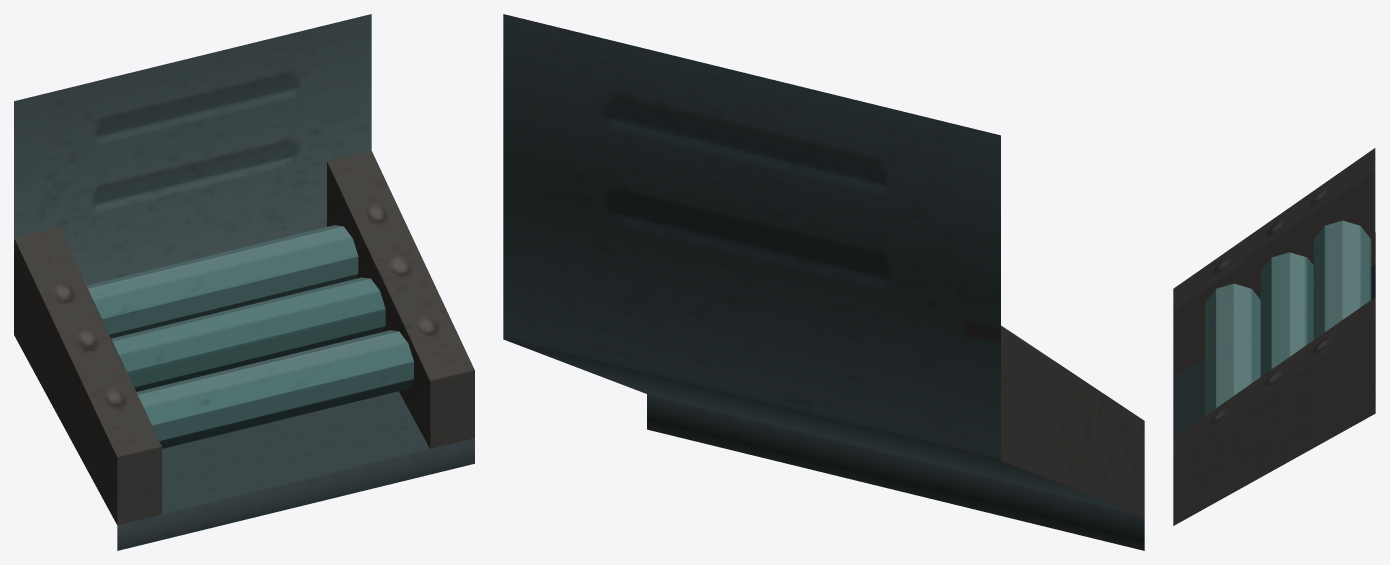
Rendered from MK_Ship_Wall01_Short.fbx.
The picture shows the model from 3 angles, left to right: view 1: azimuth 30°, elevation 25°; view 2: azimuth 150°, elevation 25°; view 3: azimuth 270°, elevation 25°; orthographic projection. The views are drawn at different scales.
Parts seen in each view (by area): view 1: MK_Ship_Wall01_Short; view 2: MK_Ship_Wall01_Short; view 3: MK_Ship_Wall01_Short.
Part boxes in pixels (left/top/right/bottom): MK_Ship_Wall01_Short: left=14, top=14, right=474, bottom=550; MK_Ship_Wall01_Short: left=503, top=14, right=1144, bottom=550; MK_Ship_Wall01_Short: left=1173, top=148, right=1375, bottom=525.
Size of the model in its own units: 0.5001 by 0.5 by 0.25.
1 material, 1 textured.
